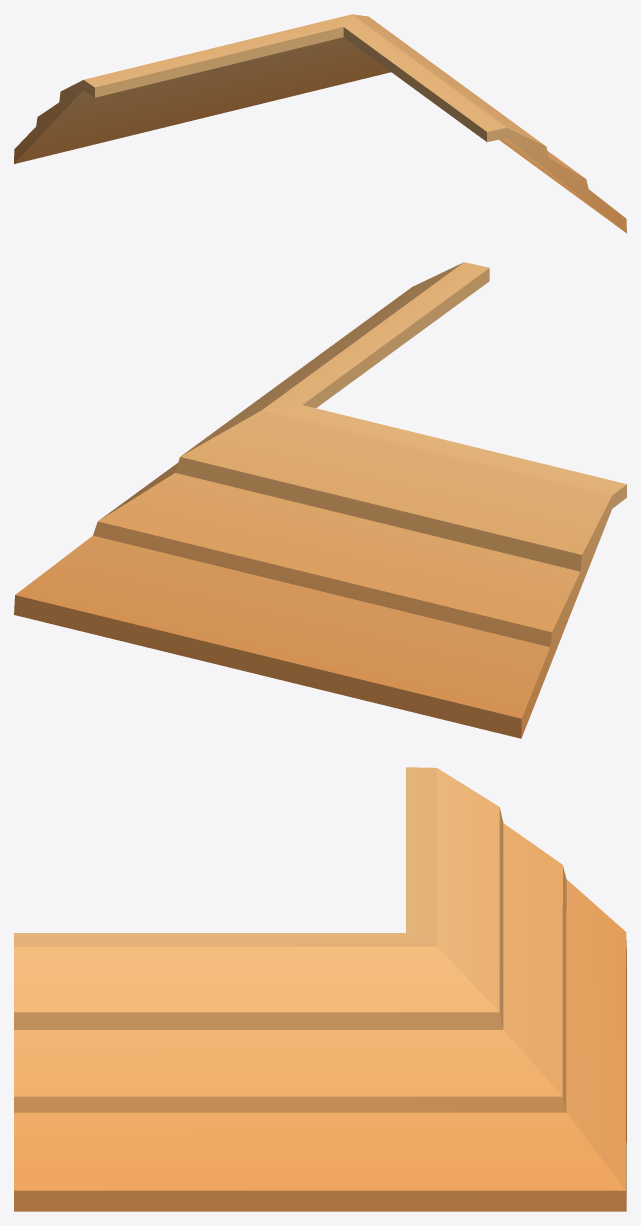
Rendered from Roof_Corner_Outer_01.fbx.
The picture shows the model from 3 angles, top to bottom: view 1: azimuth 30°, elevation 25°; view 2: azimuth 150°, elevation 25°; view 3: azimuth 270°, elevation 25°; orthographic projection. The views are drawn at different scales.
Parts seen in each view (by area): view 1: Roof_Corner_Outer_01; view 2: Roof_Corner_Outer_01; view 3: Roof_Corner_Outer_01.
Part boxes in pixels (x1,y1,x2,y2): Roof_Corner_Outer_01: [14, 14, 626, 233]; Roof_Corner_Outer_01: [14, 262, 626, 738]; Roof_Corner_Outer_01: [14, 767, 626, 1211].
Size of the model in its own units: 7.82 by 2.61 by 7.82.
